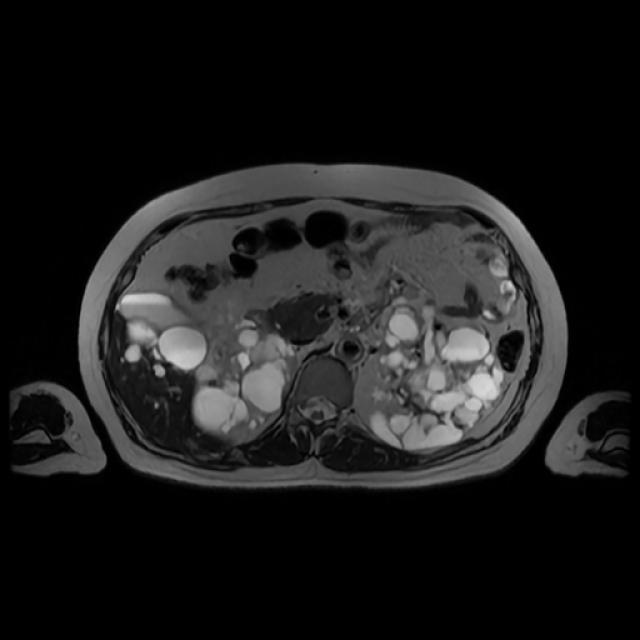sag: (167, 306, 299, 440)
sol: (364, 277, 507, 452)
